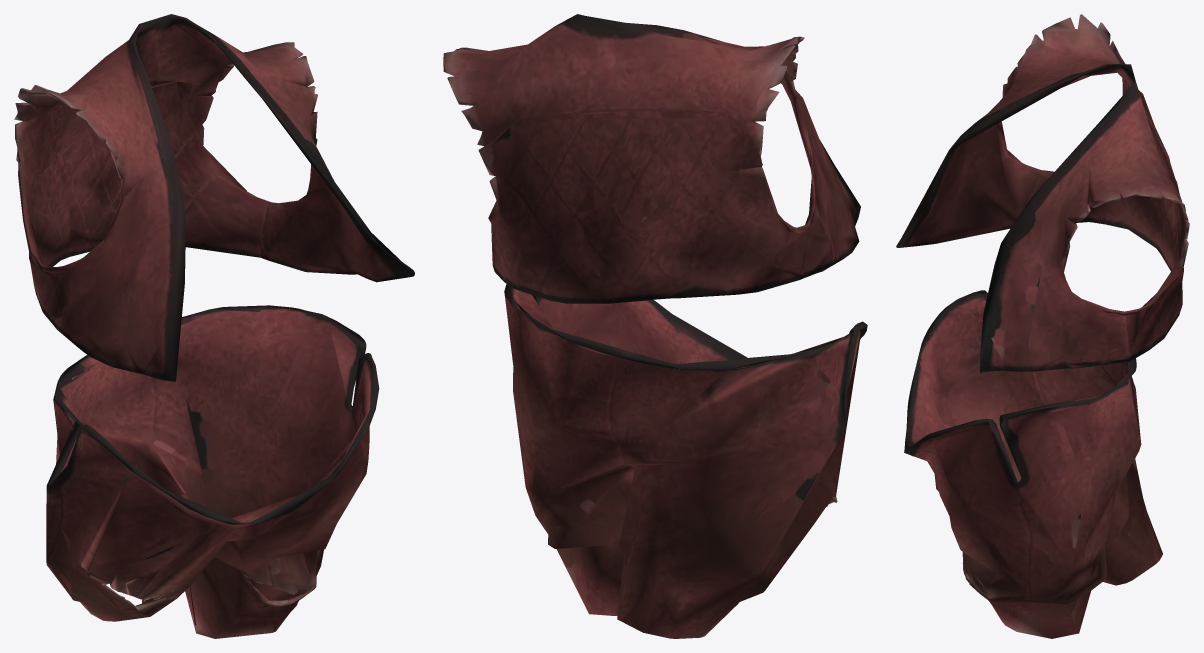
3 renders of one model, left to right at view 1: azimuth 30°, elevation 25°; view 2: azimuth 150°, elevation 25°; view 3: azimuth 270°, elevation 25°, orthographic. The views are drawn at different scales.
Visible parts, largest first — view 1: Kimono; view 2: Kimono; view 3: Kimono.
Part boxes in pixels (<box>): Kimono: <box>14,14,414,638</box>; Kimono: <box>443,14,867,638</box>; Kimono: <box>896,14,1189,638</box>.
Bounding box in the file's own units: 0.9904 × 1.62 × 0.798.
Materials: 1 (1 with a texture image).
